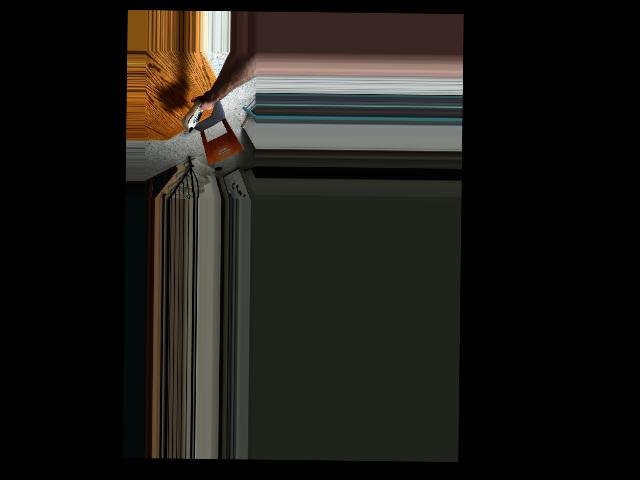cheese: (181, 98, 205, 133)
